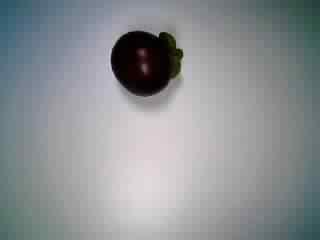mangosteen: (102, 26, 187, 98)
